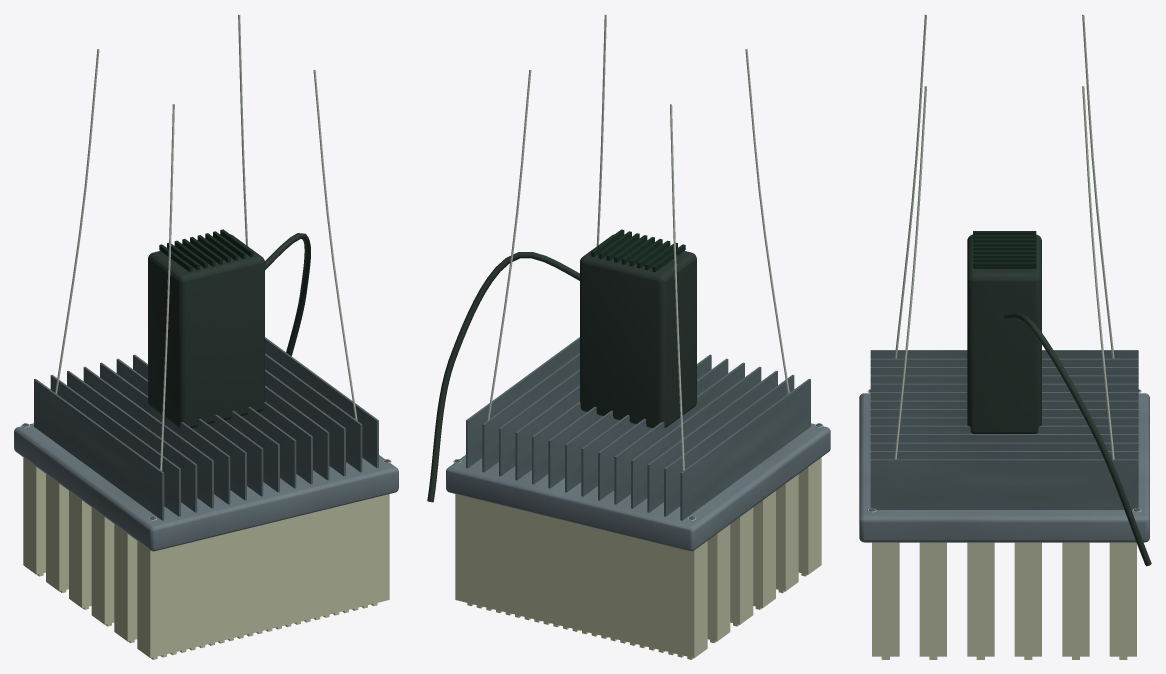
File: light.glb
3 views of the same model, side by side, from view 1: azimuth 30°, elevation 25°; view 2: azimuth 150°, elevation 25°; view 3: azimuth 270°, elevation 25° (orthographic). The views are drawn at different scales.
Parts seen in each view (by area): view 1: geo_24_2b9d3bb5 (×20), geo_4740_a48f4e99, geo_3876_7d5f08f1, geo_203_d89b2168, geo_63_4cd922c2, geo_63_4012349e, geo_63_68b30fd4, geo_63_a63e4f0e; view 2: geo_24_2b9d3bb5 (×20), geo_4740_a48f4e99, geo_3876_7d5f08f1, geo_203_d89b2168, geo_63_68b30fd4, geo_63_a63e4f0e, geo_63_4cd922c2, geo_63_4012349e; view 3: geo_24_2b9d3bb5 (×21), geo_4740_a48f4e99, geo_3876_7d5f08f1, geo_203_d89b2168, geo_63_4012349e, geo_63_a63e4f0e, geo_63_4cd922c2, geo_63_68b30fd4.
Boxes of the visible parts, <box> form: geo_24_2b9d3bb5 (×20): <box>23,337,389,658</box>; geo_4740_a48f4e99: <box>148,234,264,428</box>; geo_3876_7d5f08f1: <box>14,423,398,551</box>; geo_203_d89b2168: <box>265,233,310,356</box>; geo_63_4cd922c2: <box>160,104,174,470</box>; geo_63_4012349e: <box>313,70,357,420</box>; geo_63_68b30fd4: <box>55,49,99,393</box>; geo_63_a63e4f0e: <box>238,15,248,246</box>; geo_24_2b9d3bb5 (×20): <box>455,337,821,658</box>; geo_4740_a48f4e99: <box>580,234,696,428</box>; geo_3876_7d5f08f1: <box>446,423,830,551</box>; geo_203_d89b2168: <box>427,252,579,502</box>; geo_63_68b30fd4: <box>670,104,684,470</box>; geo_63_a63e4f0e: <box>487,70,531,420</box>; geo_63_4cd922c2: <box>745,49,789,393</box>; geo_63_4012349e: <box>596,14,606,245</box>; geo_24_2b9d3bb5 (×21): <box>870,262,1138,656</box>; geo_4740_a48f4e99: <box>967,234,1041,433</box>; geo_3876_7d5f08f1: <box>859,393,1149,542</box>; geo_203_d89b2168: <box>1004,313,1151,566</box>; geo_63_4012349e: <box>894,86,926,459</box>; geo_63_a63e4f0e: <box>1082,86,1114,459</box>; geo_63_4cd922c2: <box>894,15,926,358</box>; geo_63_68b30fd4: <box>1082,15,1114,358</box>.
Size of the model in its own units: 1.13 by 2.12 by 1.02.
23 materials, 7 textured.
